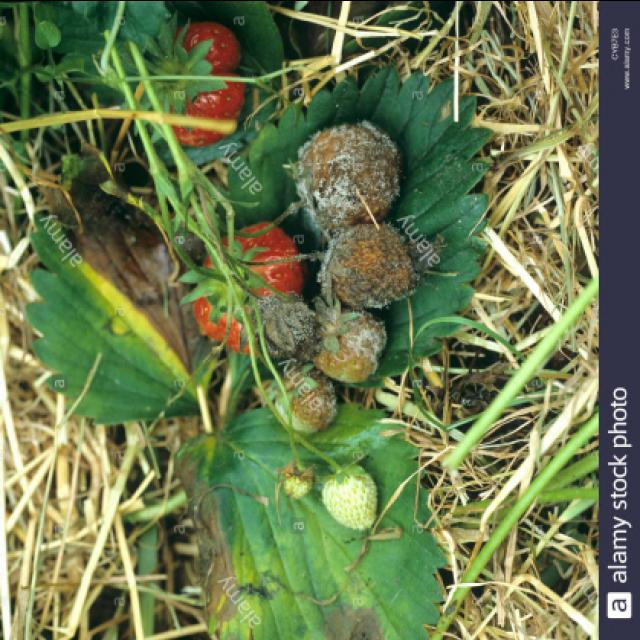Gray Mold: (293, 117, 403, 244), (319, 220, 421, 309), (311, 294, 388, 382), (273, 363, 338, 432), (258, 292, 319, 363)
